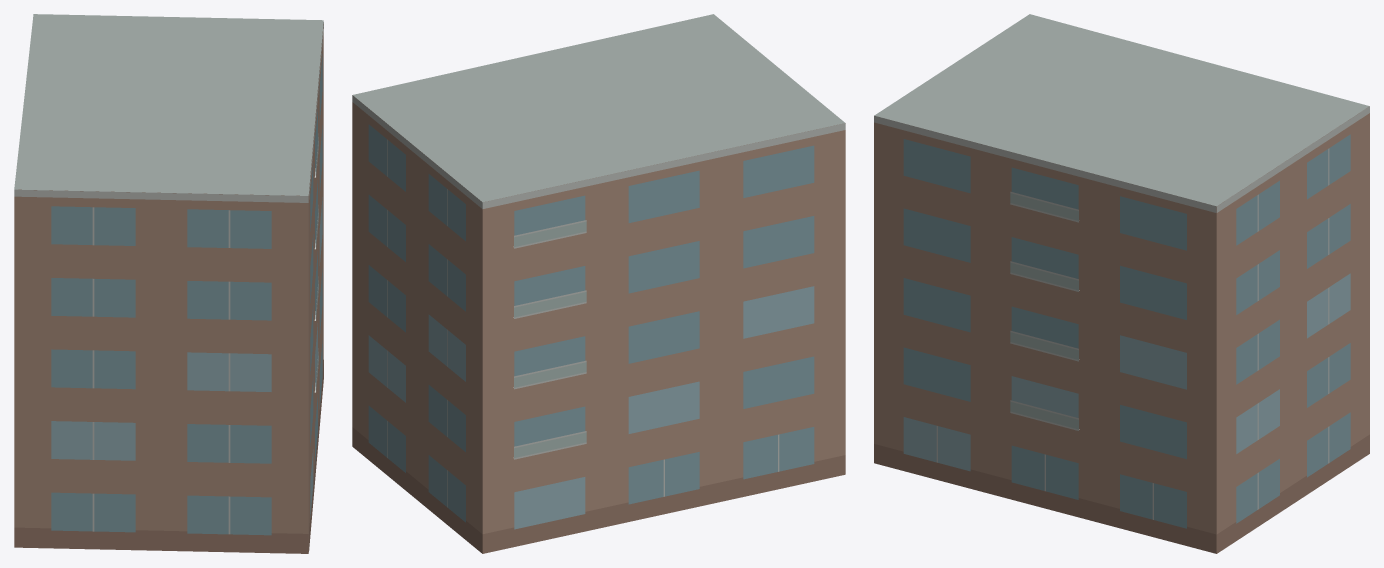
File: survey-upis-32771621.glb
The picture shows the model from 3 angles, left to right: view 1: azimuth 30°, elevation 25°; view 2: azimuth 150°, elevation 25°; view 3: azimuth 270°, elevation 25°; orthographic projection. The views are drawn at different scales.
Parts seen in each view (by area): view 1: survey-upis-32771621.tmp; view 2: survey-upis-32771621.tmp; view 3: survey-upis-32771621.tmp.
Part boxes in pixels (x1=…): survey-upis-32771621.tmp: x1=14, y1=14, x2=323, y2=553; survey-upis-32771621.tmp: x1=352, y1=14, x2=845, y2=553; survey-upis-32771621.tmp: x1=874, y1=14, x2=1369, y2=553.
Bounding box in the file's own units: 14.72 × 12.4 × 16.04.
